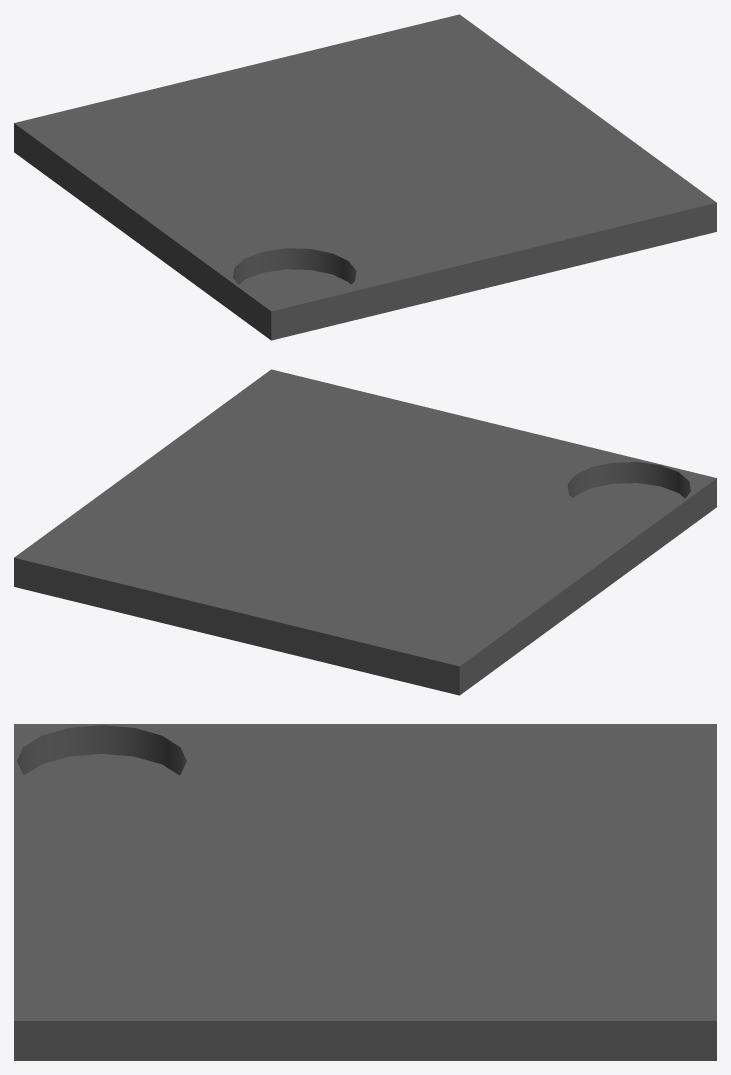
The model's file is floor_1.fbx.
3 views of the same model, one above another, from view 1: azimuth 30°, elevation 25°; view 2: azimuth 150°, elevation 25°; view 3: azimuth 270°, elevation 25° (orthographic). The views are drawn at different scales.
Parts seen in each view (by area): view 1: m1; view 2: m1; view 3: m1.
Part boxes in pixels (x1,y1,x2,y2): m1: [14, 14, 716, 340]; m1: [14, 369, 716, 695]; m1: [14, 724, 716, 1060].
Size of the model in its own units: 1600 by 100 by 1600.
Materials: 1 (1 with a texture image).
